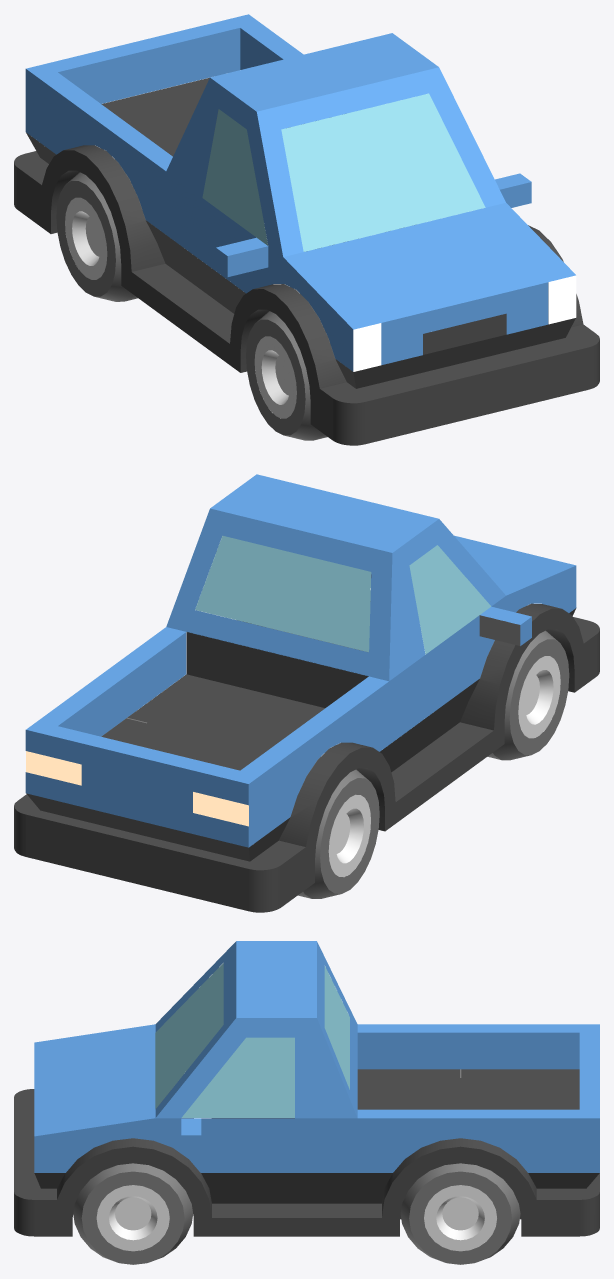
File: truck.gltf
The picture shows the model from 3 angles, top to bottom: view 1: azimuth 30°, elevation 25°; view 2: azimuth 150°, elevation 25°; view 3: azimuth 270°, elevation 25°; orthographic projection. The views are drawn at different scales.
Visible parts, largest first — view 1: Mesh_body002_1, Mesh_body002, Mesh_body002_4, Mesh_wheel_frontLeft002 (×2), Mesh_wheel_frontLeft002_1 (×2), Mesh_body002_2; view 2: Mesh_body002_1, Mesh_body002, Mesh_body002_4, Mesh_wheel_frontLeft002 (×2), Mesh_wheel_frontLeft002_1 (×2), Mesh_body002_5, Mesh_body002_3; view 3: Mesh_body002_1, Mesh_body002, Mesh_body002_4, Mesh_wheel_frontLeft002 (×2), Mesh_wheel_frontLeft002_1 (×2).
Part boxes in pixels (x1=…): Mesh_body002_1: x1=25, y1=14, x2=575, y2=371; Mesh_body002: x1=14, y1=77, x2=599, y2=445; Mesh_body002_4: x1=202, y1=93, x2=485, y2=251; Mesh_wheel_frontLeft002 (×2): x1=56, y1=159, x2=327, y2=440; Mesh_wheel_frontLeft002_1 (×2): x1=65, y1=197, x2=296, y2=418; Mesh_body002_2: x1=353, y1=275, x2=576, y2=371; Mesh_body002_1: x1=25, y1=474, x2=576, y2=847; Mesh_body002: x1=14, y1=574, x2=599, y2=912; Mesh_body002_4: x1=195, y1=535, x2=490, y2=654; Mesh_wheel_frontLeft002 (×2): x1=298, y1=630, x2=569, y2=898; Mesh_wheel_frontLeft002_1 (×2): x1=328, y1=656, x2=560, y2=876; Mesh_body002_5: x1=26, y1=751, x2=248, y2=826; Mesh_body002_3: x1=479, y1=615, x2=520, y2=645; Mesh_body002_1: x1=34, y1=941, x2=599, y2=1172; Mesh_body002: x1=14, y1=1069, x2=599, y2=1236; Mesh_body002_4: x1=155, y1=963, x2=349, y2=1117; Mesh_wheel_frontLeft002 (×2): x1=73, y1=1163, x2=520, y2=1264; Mesh_wheel_frontLeft002_1 (×2): x1=96, y1=1185, x2=496, y2=1251.
Size of the model in its own units: 1.5 by 1.3 by 2.9.
